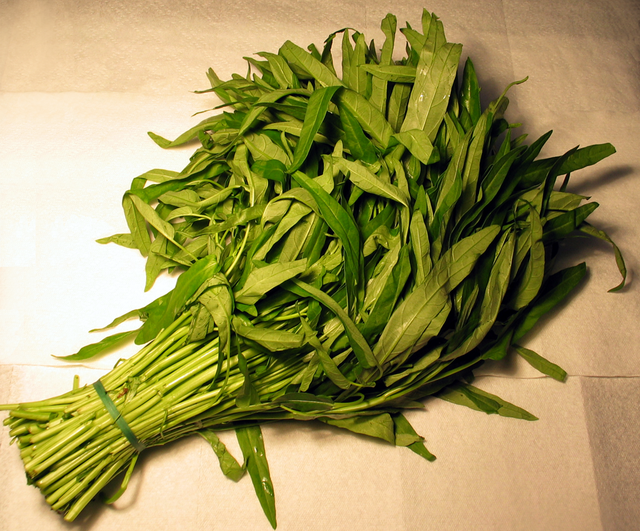Kangkung: (32, 34, 632, 516)
